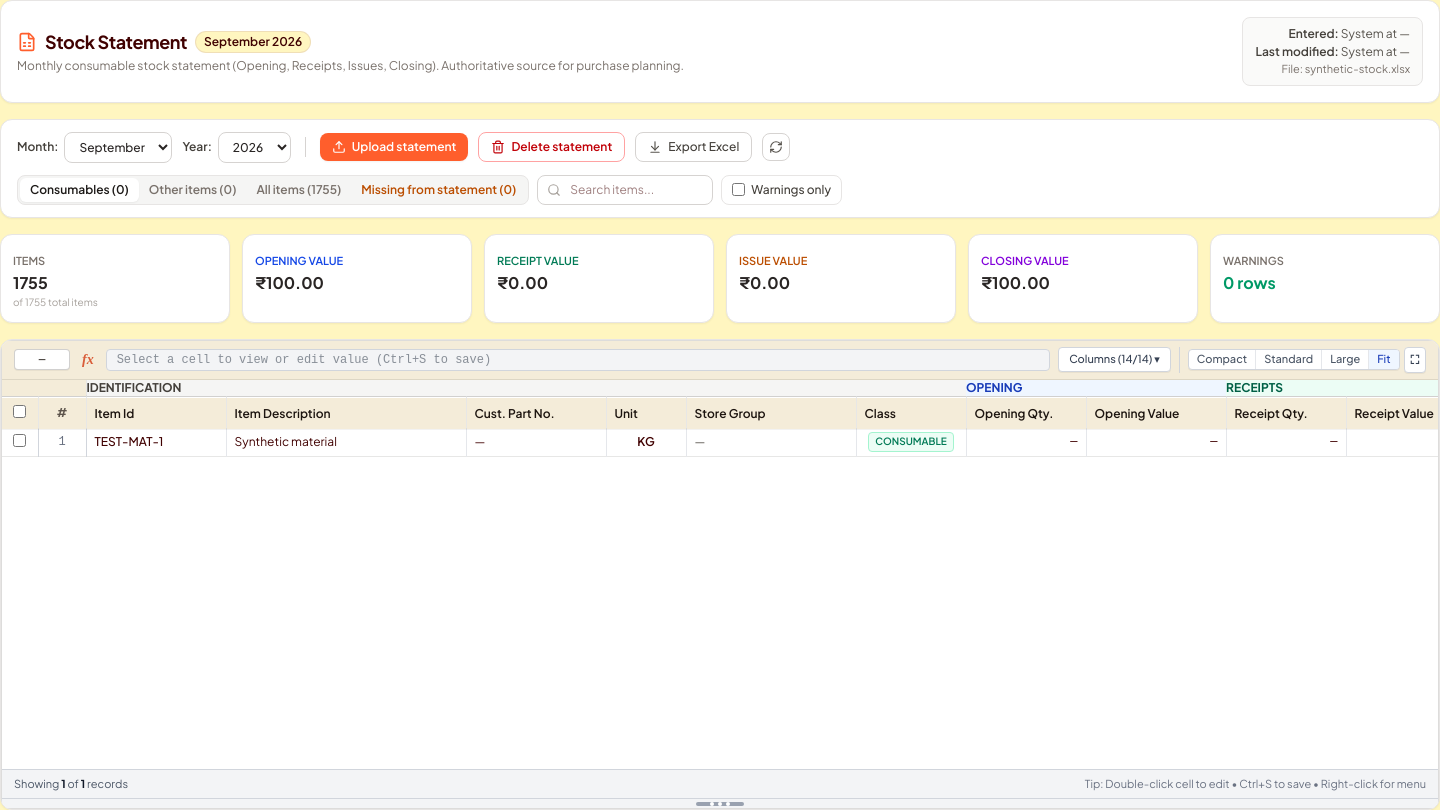
Test: deletes only the captured month and year after reason and confirmation, including filtered rows
Click the button "Delete statement" at (552, 147), box [478,132,625,162]
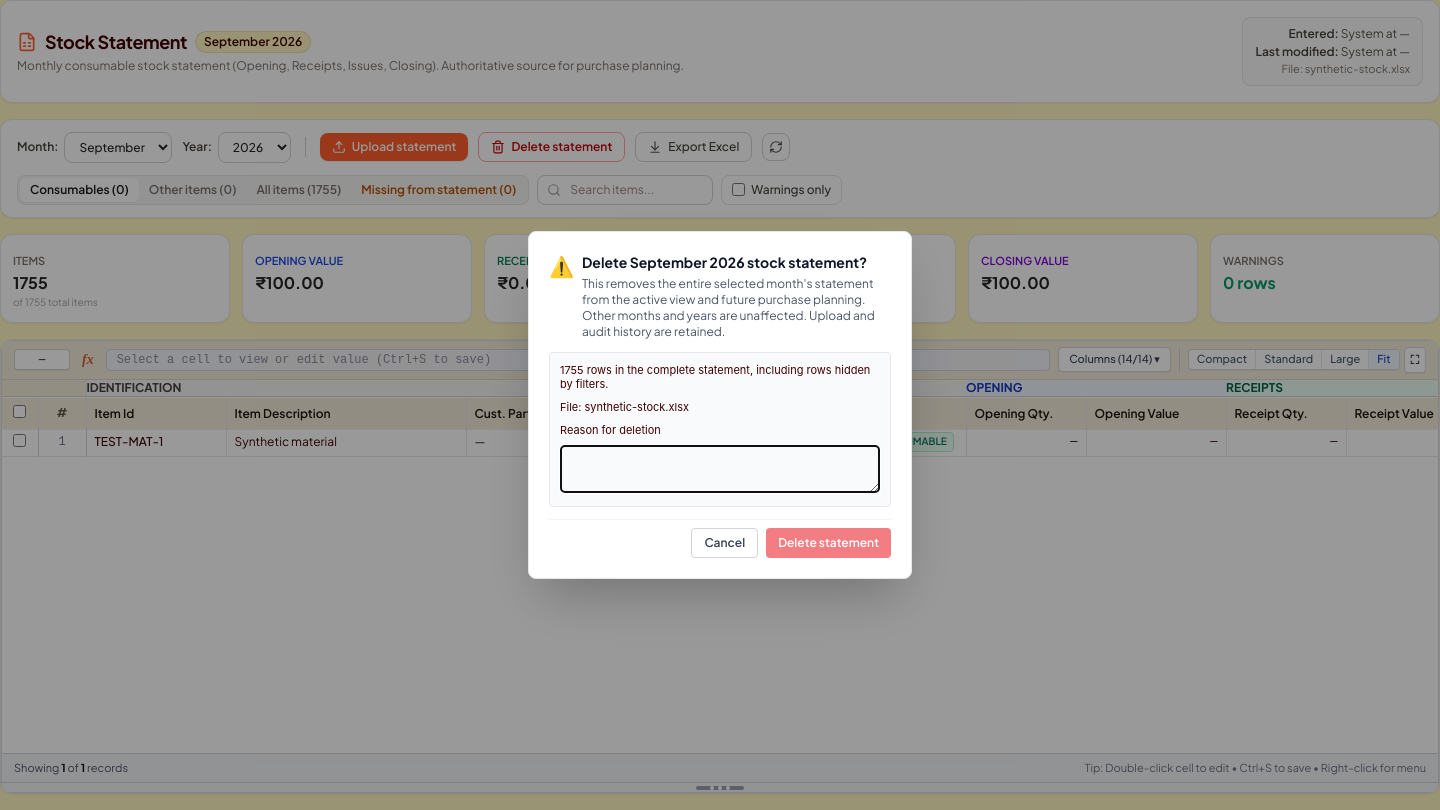
Check: the button "Delete statement" is disabled, box [766,528,891,558]
Check: the text "1755 rows in the complete statement" is shown, box [560,363,880,392]
Check: the dropdown named "Statement month" is disabled, box [64,132,172,163]
Type " Wrong period " into the text box labelled "Reason for deletion" at (720, 469), box [560,445,880,493]
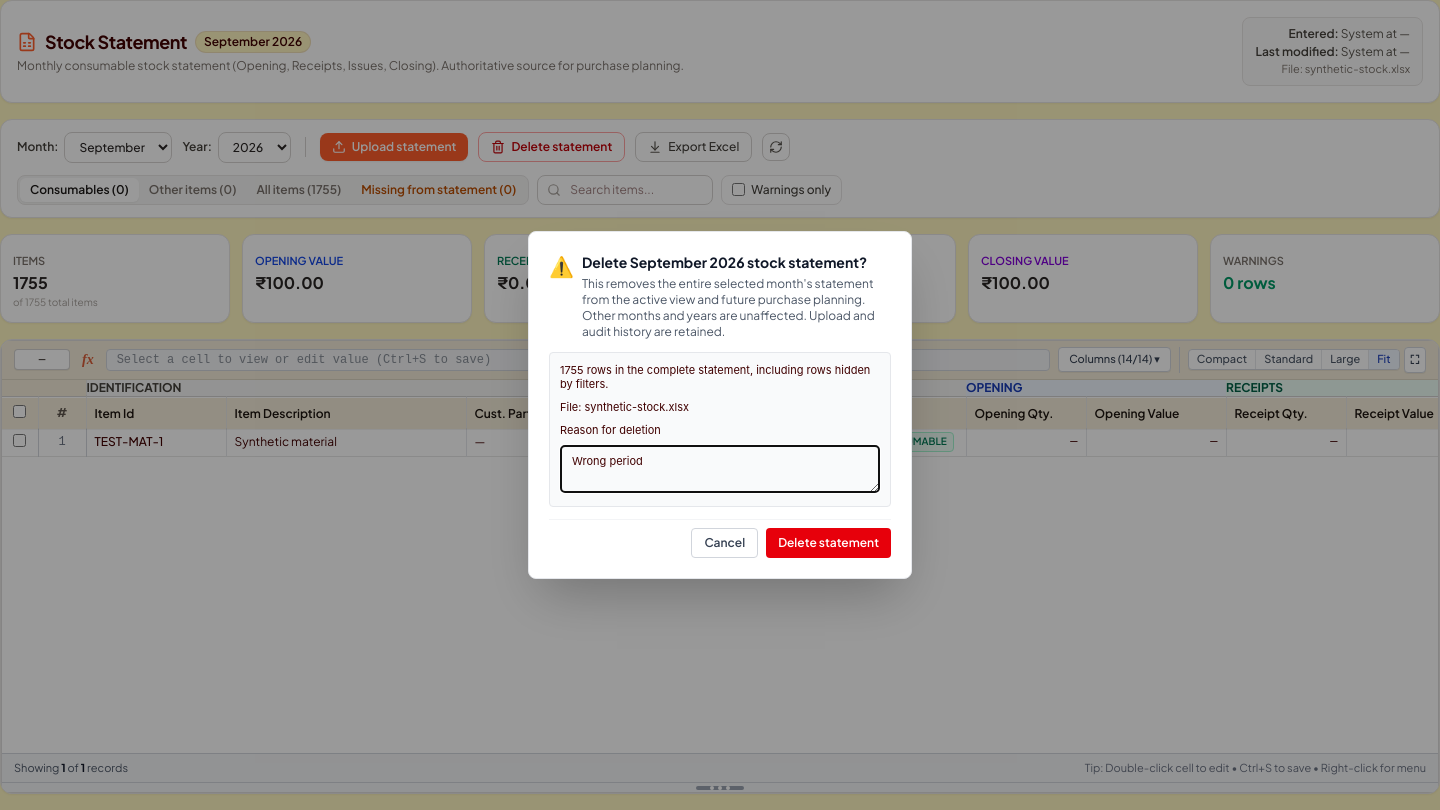
Click the button "Delete statement" at (829, 543), box [766,528,891,558]
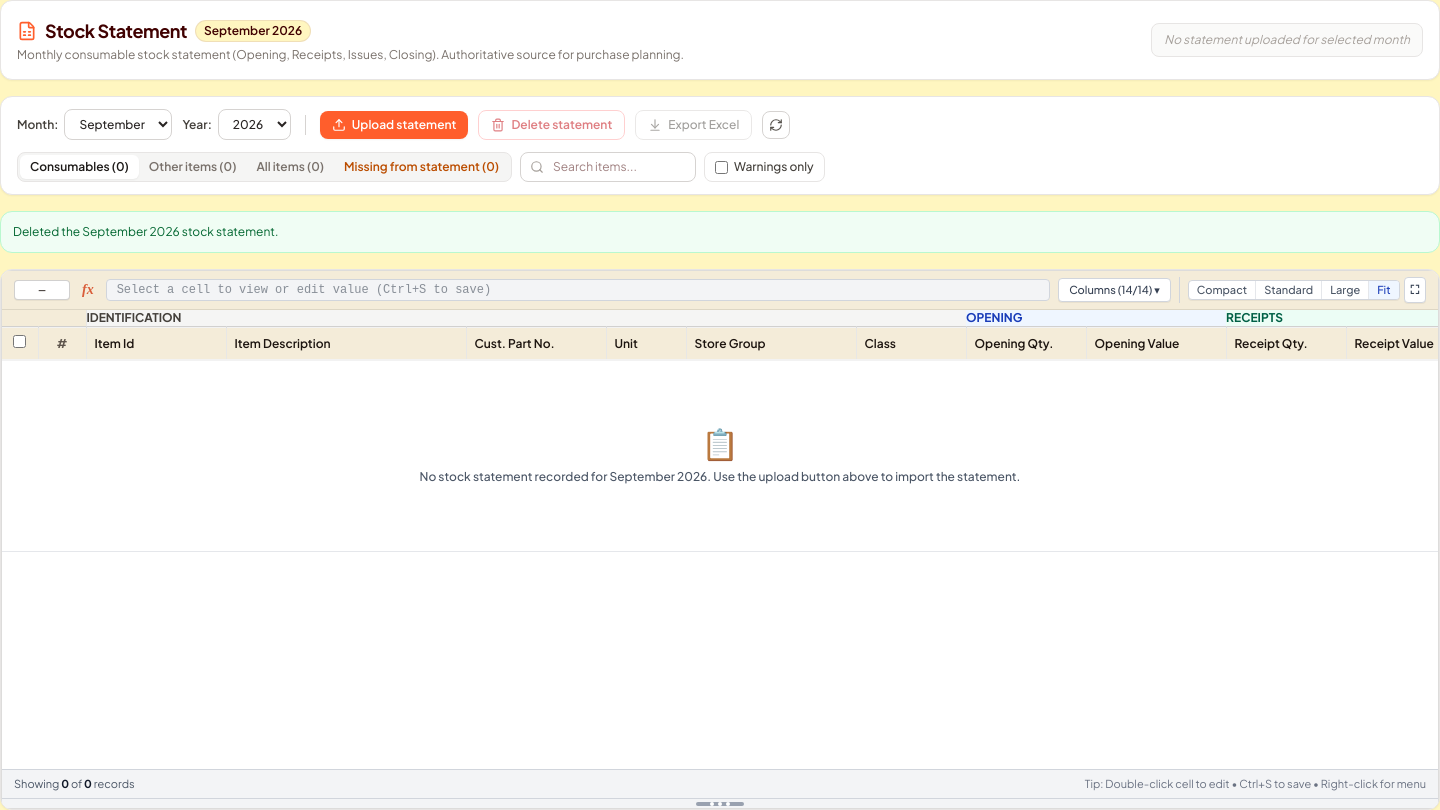
Check: the text "Deleted the September 2026 stock statement." is shown, box [0,211,1439,253]
Check: the text "TEST-MAT-1" is gone
Check: the button "Delete statement" is disabled, box [478,110,625,140]
Select "2025" in the dropdown named "Statement year" at (254, 124), box [218,109,291,140]
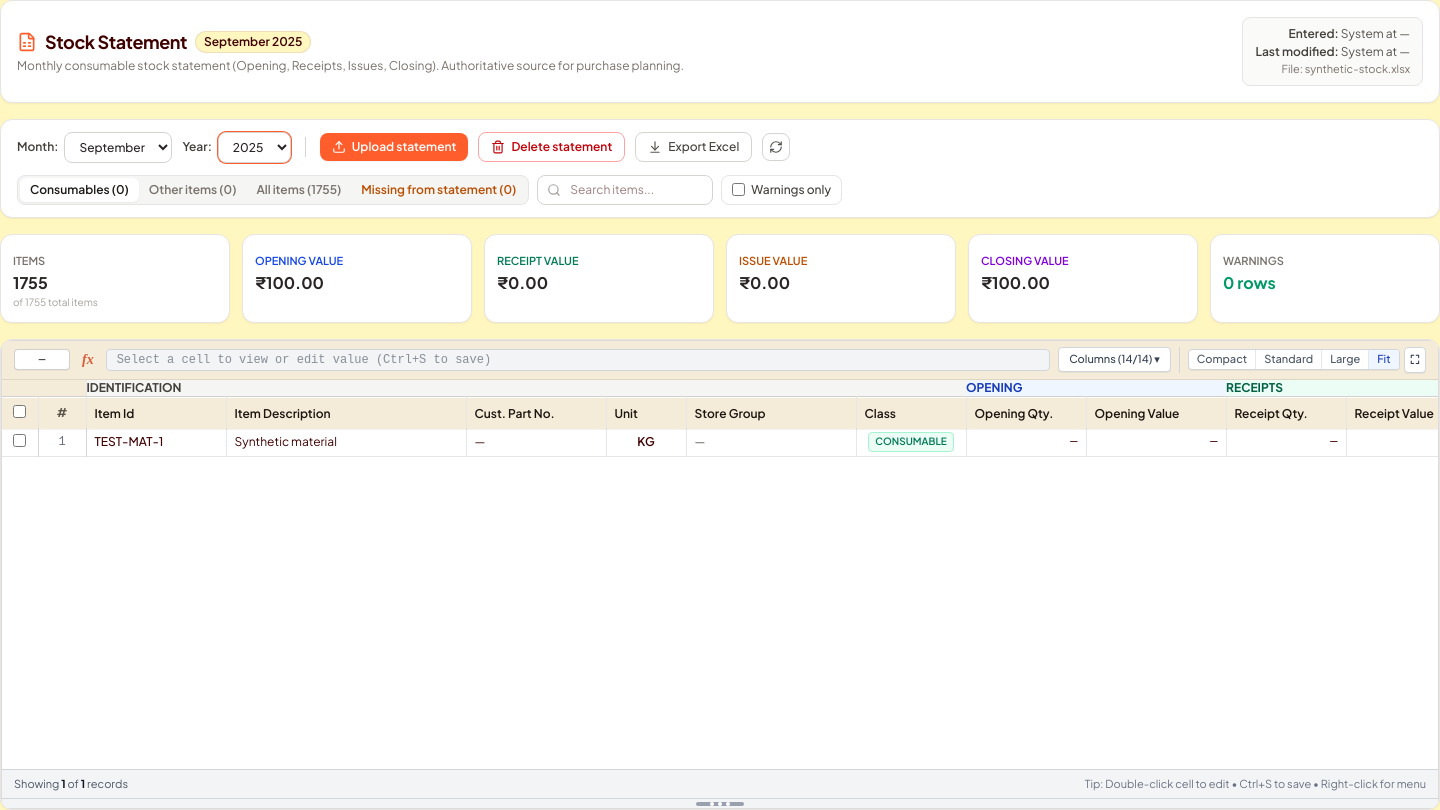
Check: the text "TEST-MAT-1" is shown, box [94,434,163,450]
